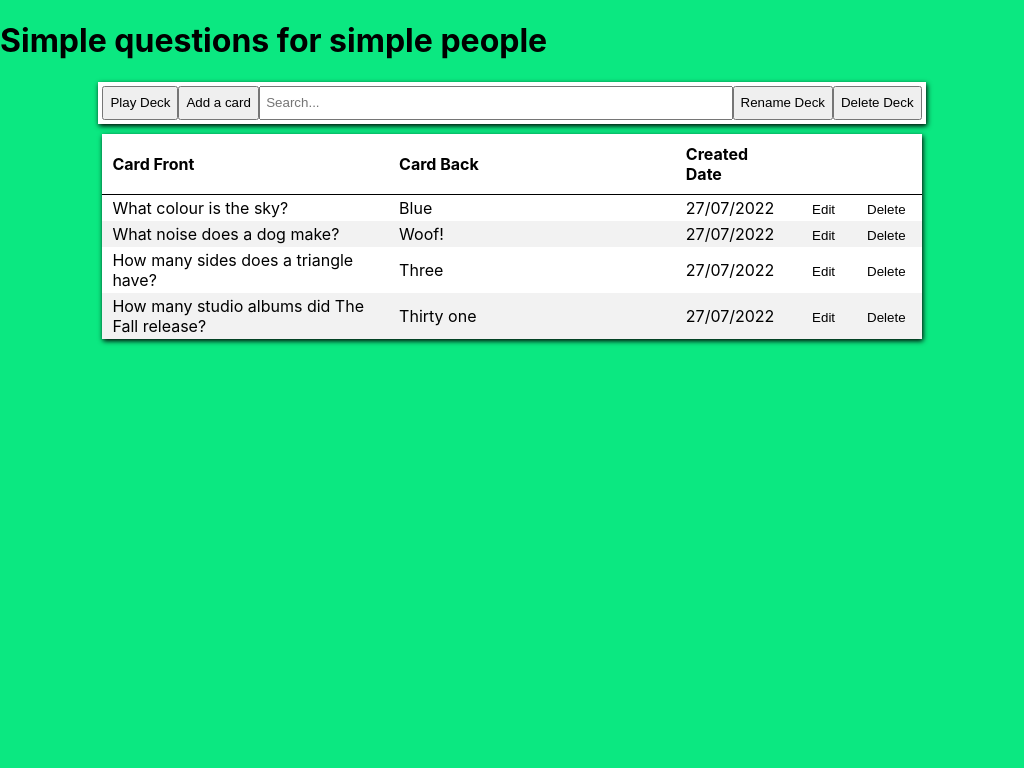
Test: clicking Add a card will display the card form
expect the button "Submit Card" is not shown: met
Click the button "Add a card". click: click(219, 103)
box: top-left (178, 86), bottom-right (259, 120)
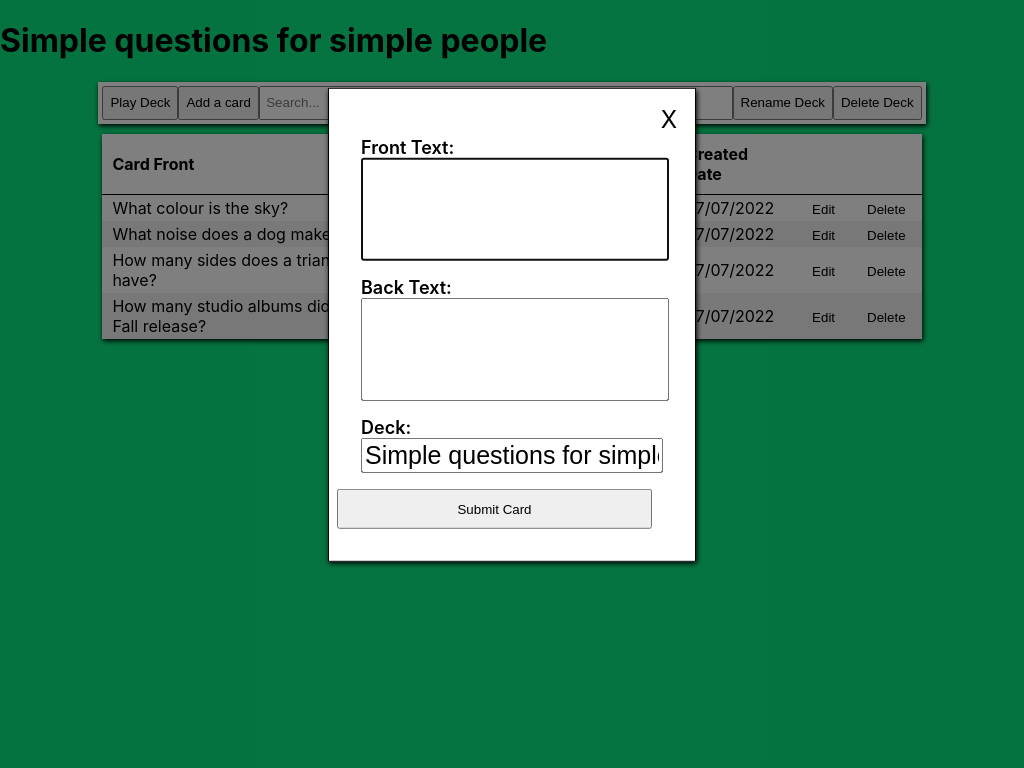
expect the button "Submit Card" is shown: met, box top-left (337, 489), bottom-right (652, 529)
